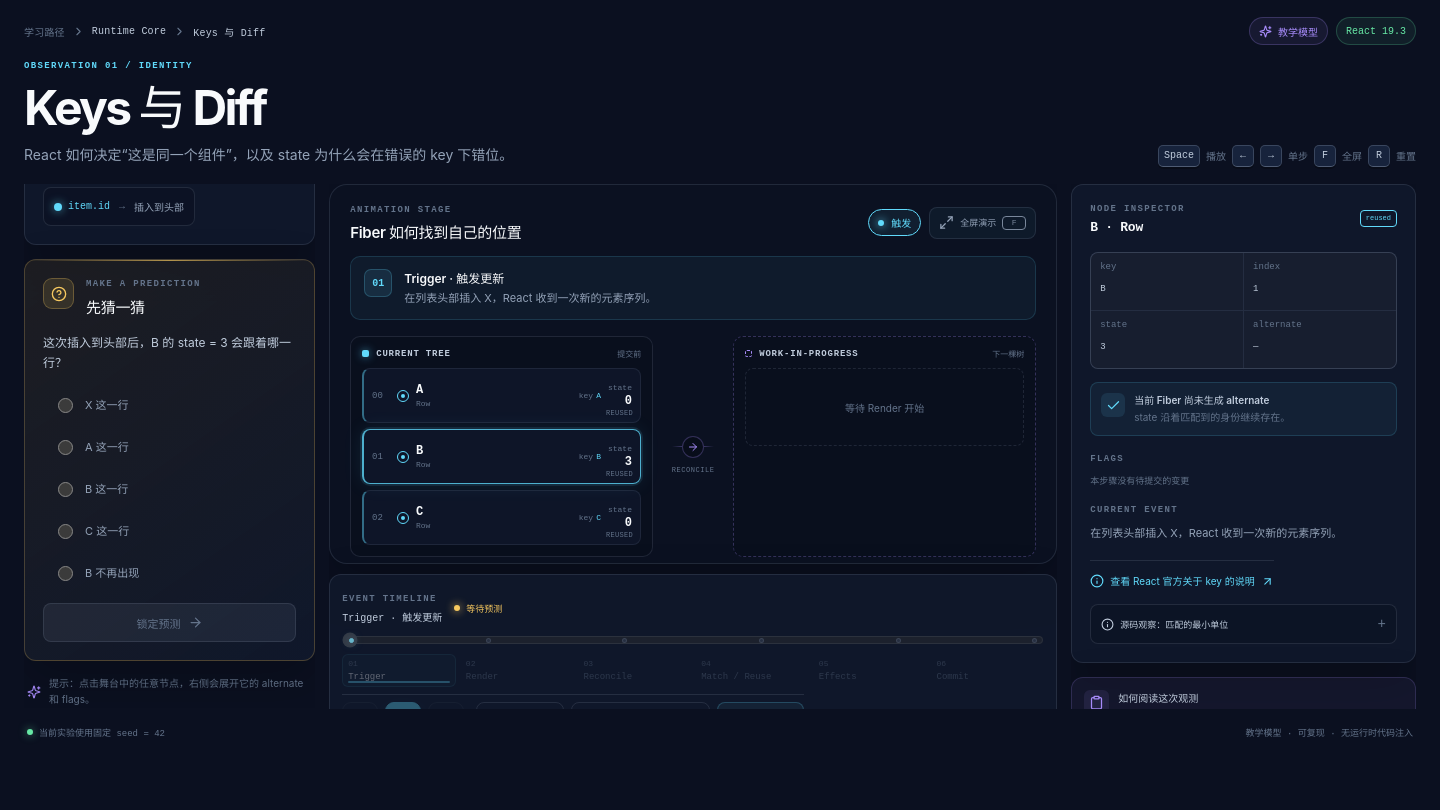
Test: KeyLabPage › responds to keyboard single-step shortcuts
The width and height of the screenshot is (1440, 810).
(page scrolled)
Click the radio button labelled "B 这一行": {"x": 66, "y": 490} x1=58 y1=482 x2=73 y2=498
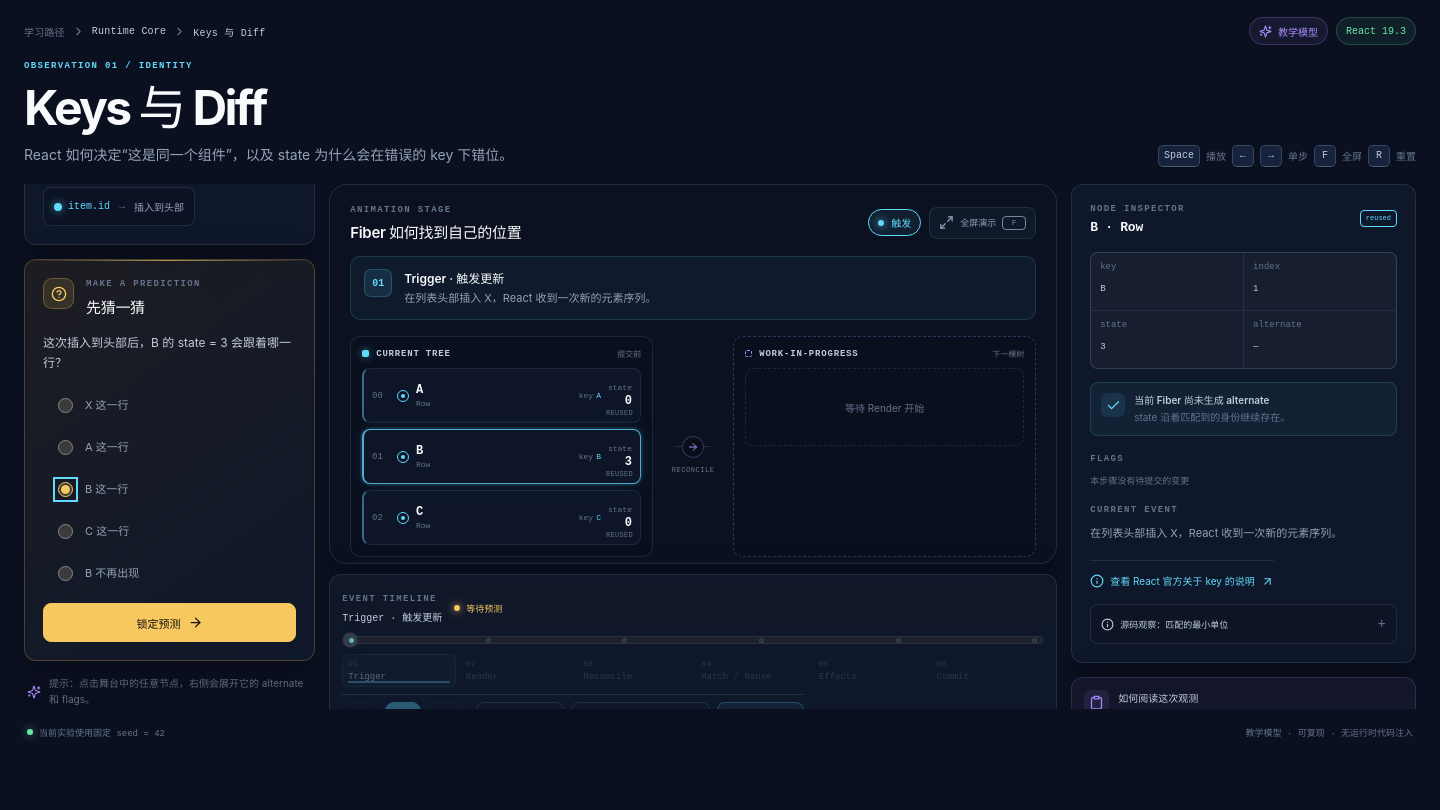
Click the button "锁定预测": {"x": 170, "y": 623} x1=43 y1=604 x2=296 y2=642
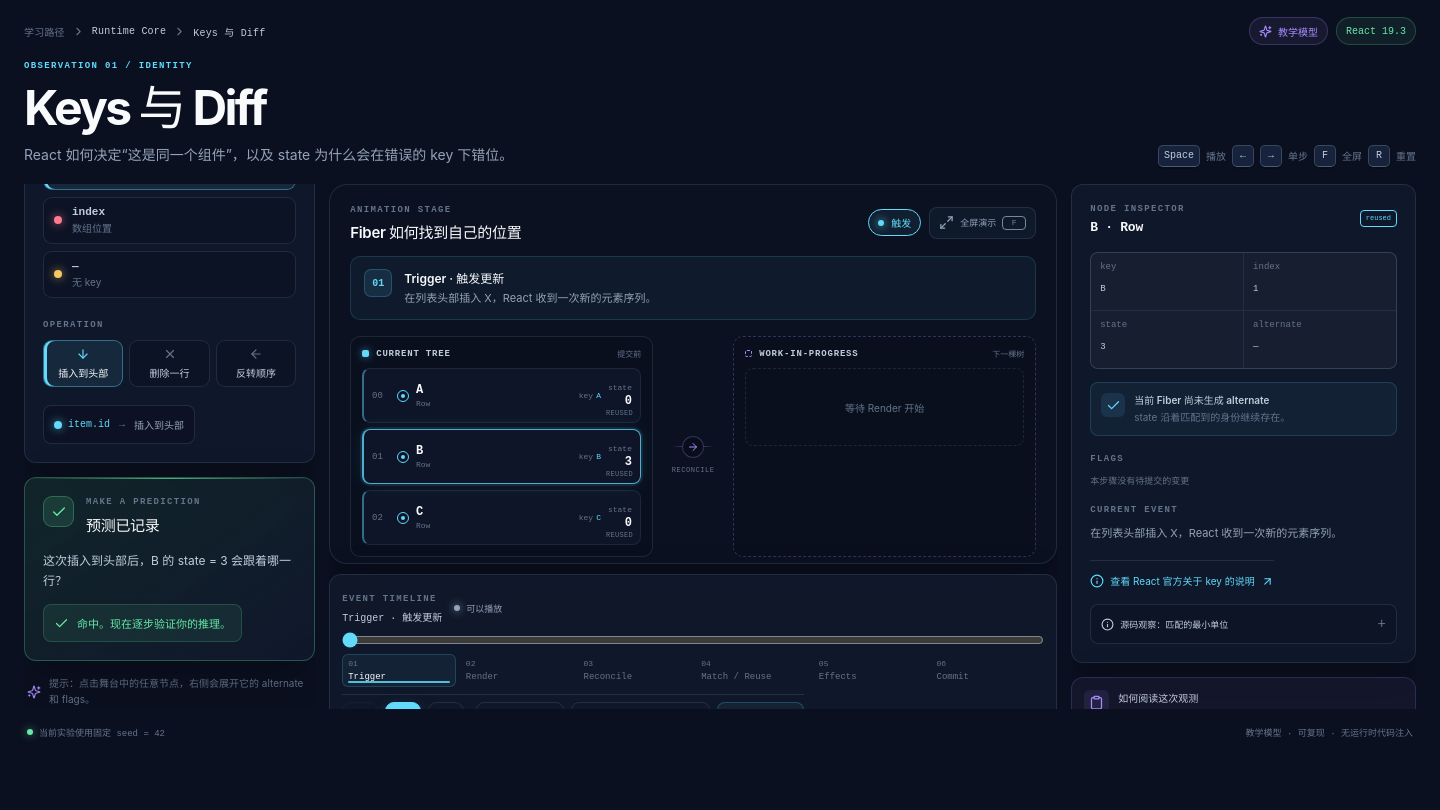
Press ArrowRight
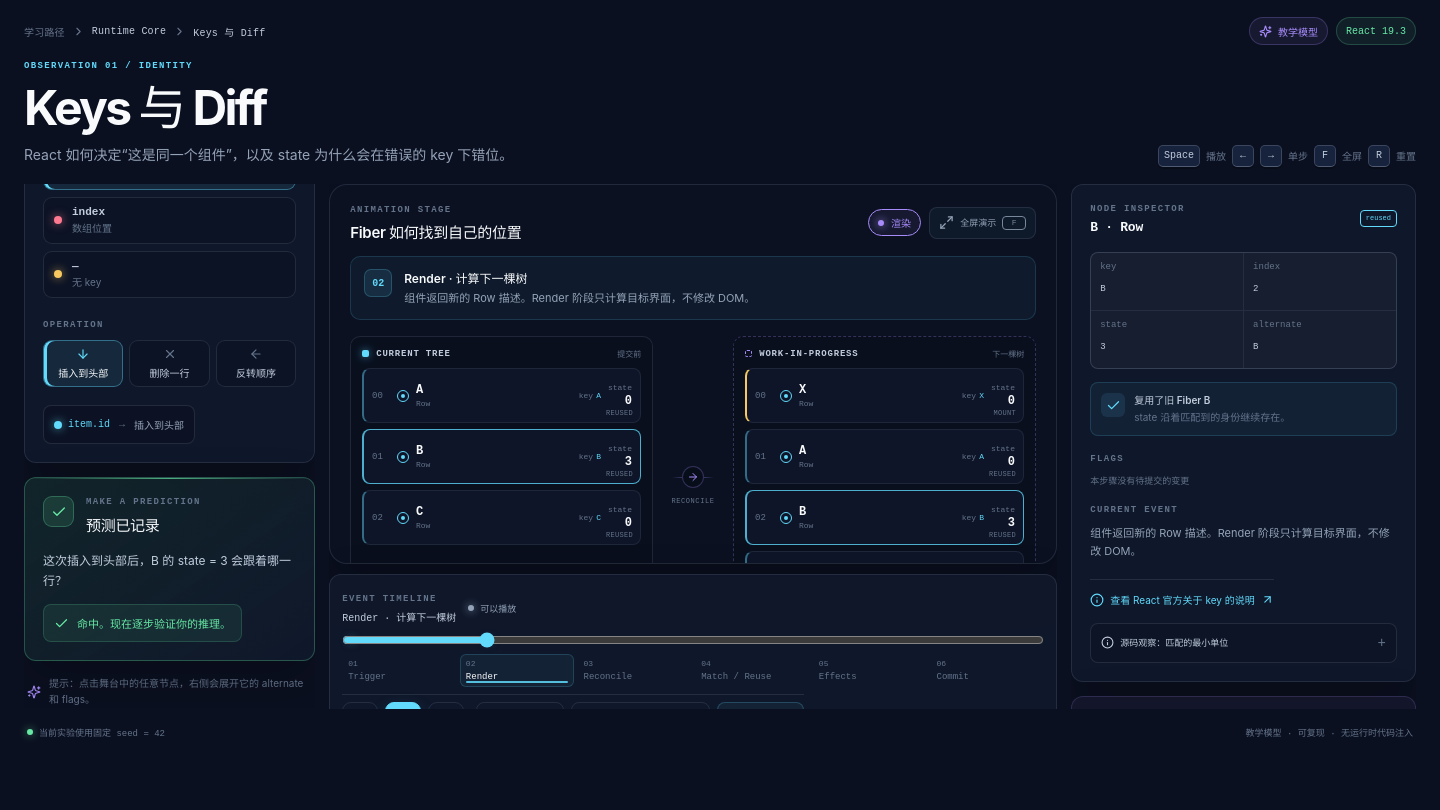
Result: the slider holds "1" at x1=342 y1=631 x2=1044 y2=649
Press ArrowLeft
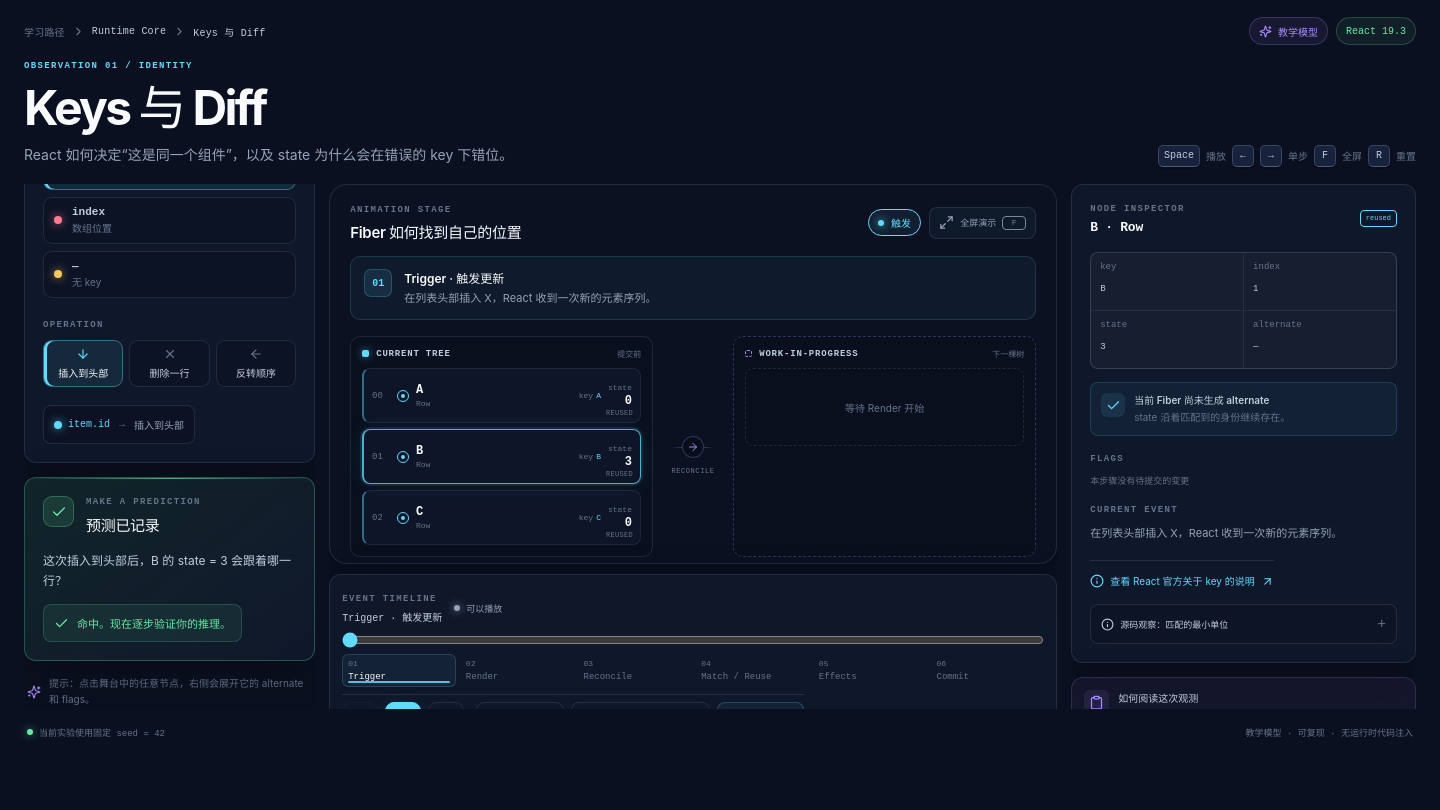
Result: the slider holds "0" at x1=342 y1=631 x2=1044 y2=649
